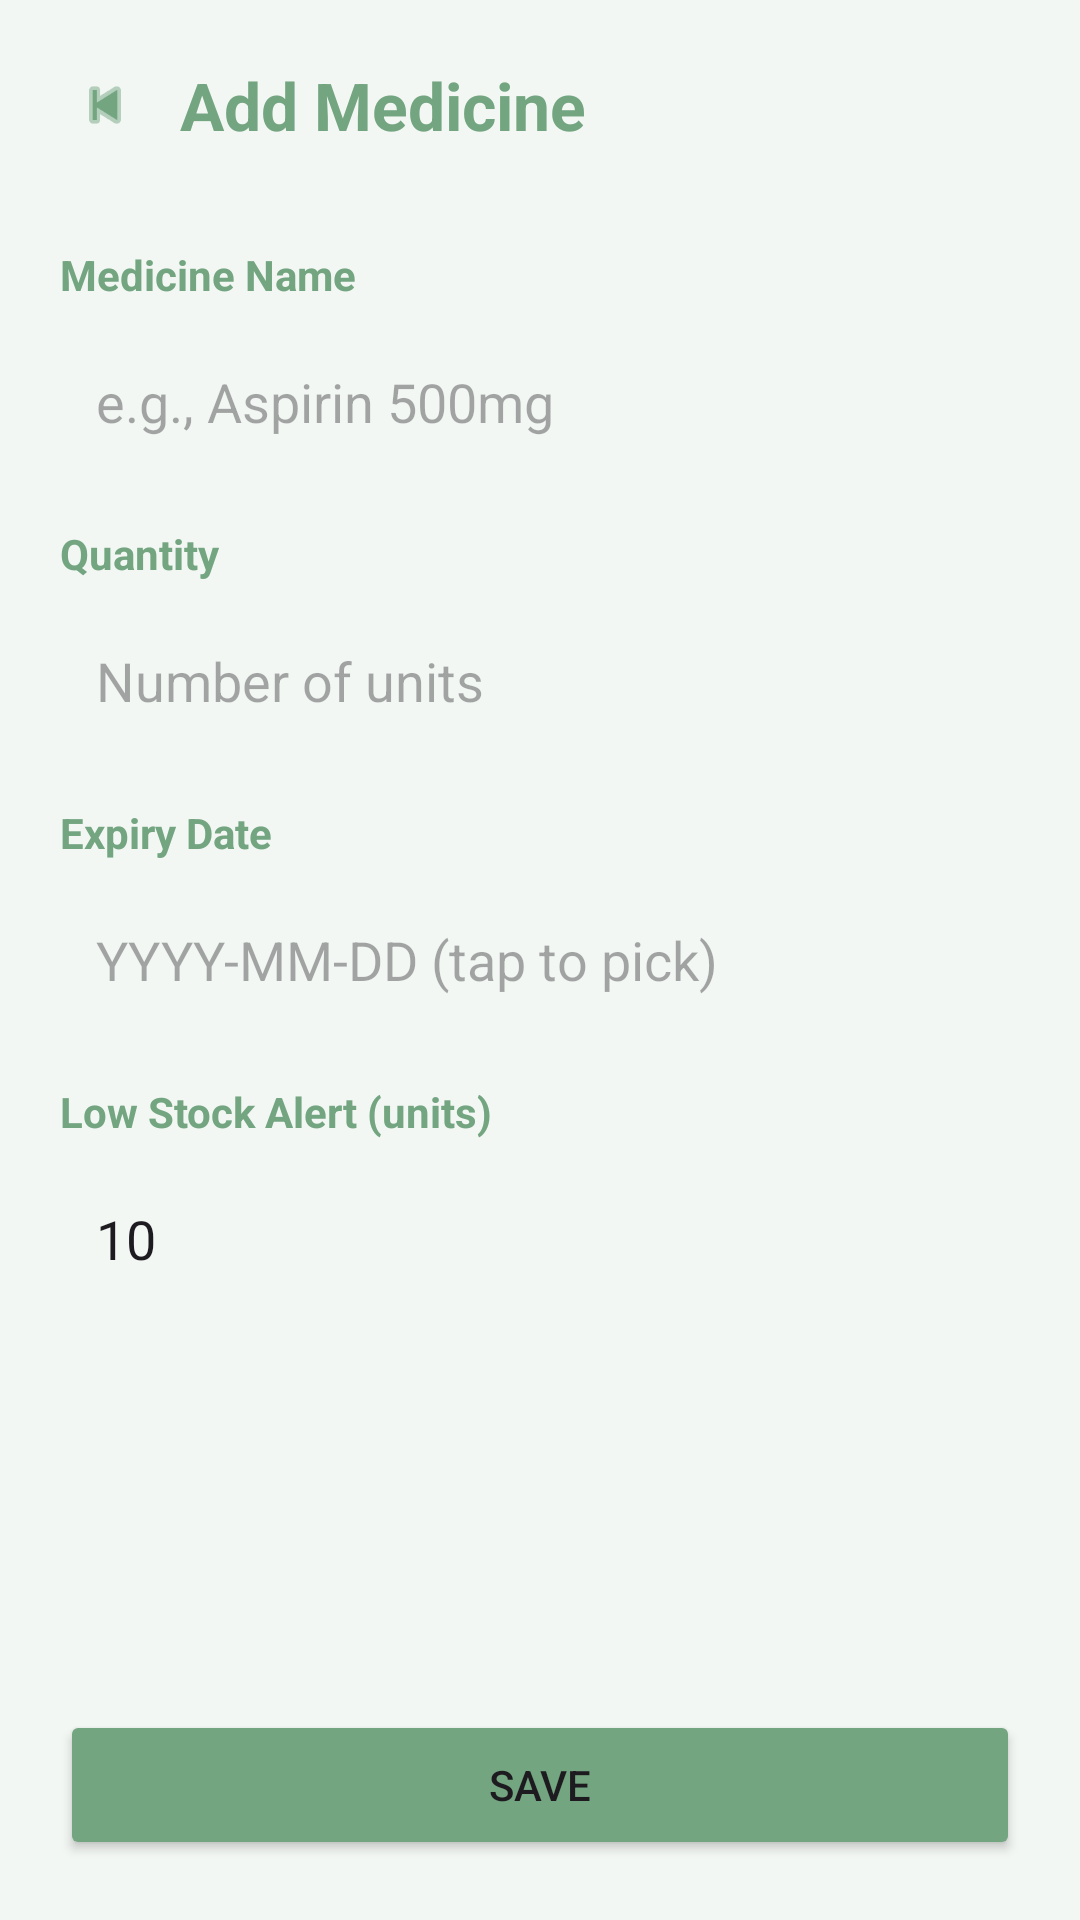

Screen size 1080px×1920px. Icon name, then its center in pixels as (x=x, y=y):
previous: (x=105, y=105)
